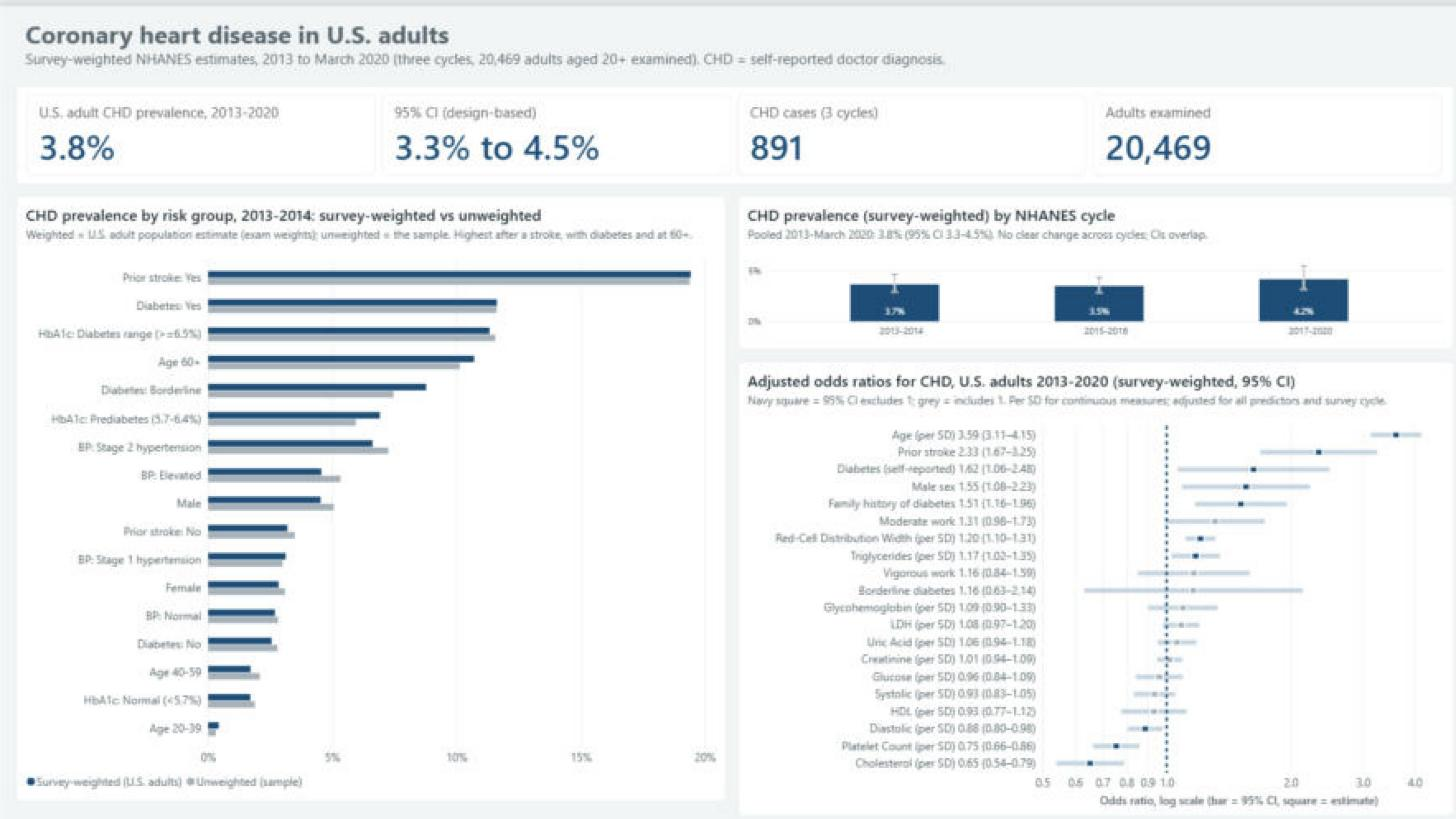

This screenshot's page, from the dashboard's own definition file:
{"tool":"powerbi","page":{"name":"1. U.S. population","canvas":[1920,1080],"ordinal":0},"visuals":[{"type":"cardVisual","fields":{"Data":["prevalence_pooled.Pooled Prevalence","prevalence_pooled.Pooled CI","prevalence_pooled.Pooled Cases","prevalence_pooled.Pooled Adults"]},"box":[24,104,1872,128],"z":0},{"type":"clusteredBarChart","title":"CHD prevalence by risk group, 2013-2014: survey-weighted vs unweighted","fields":{"Category":["risk_groups_2013.Level"],"Y":["Sum(risk_groups_2013.Weighted)","Sum(risk_groups_2013.Unweighted)"]},"box":[24,248,924,789],"z":1000},{"type":"clusteredColumnChart","fields":{"Category":["prevalence_pooled.Level"],"Y":["Sum(prevalence_pooled.Weighted)"]},"box":[964,248,932,200],"z":2000},{"type":"barChart","title":"Adjusted odds ratios for CHD, U.S. adults 2013-2020 (survey-weighted, 95% CI)","fields":{"Category":["odds_ratios_pooled.OR Label"],"Y":["odds_ratios_pooled.FP Start","odds_ratios_pooled.FP CI Left","odds_ratios_pooled.FP Point Sig","odds_ratios_pooled.FP Point NS","odds_ratios_pooled.FP CI Right"]},"box":[965.5,447,932,592],"z":3000},{"type":"textbox","box":[24,4,1872,98],"z":4000}]}

Visuals, with their boxes in screenshot pixels (x1, y1, x2, y2), scaled from the page's 1920x1080 canvas onto the 1456x819 screenshot:
cardVisual - prevalence_pooled.Pooled Prevalence x prevalence_pooled.Pooled CI: pyautogui.locateOnScreen(18, 79, 1438, 176)
"CHD prevalence by risk group, 2013-2014: survey-weighted vs unweighted" clusteredBarChart: pyautogui.locateOnScreen(18, 188, 719, 786)
clusteredColumnChart - prevalence_pooled.Level x Sum(prevalence_pooled.Weighted): pyautogui.locateOnScreen(731, 188, 1438, 340)
"Adjusted odds ratios for CHD, U.S. adults 2013-2020 (survey-weighted, 95% CI)" barChart: pyautogui.locateOnScreen(732, 339, 1439, 788)
textbox: pyautogui.locateOnScreen(18, 3, 1438, 77)
